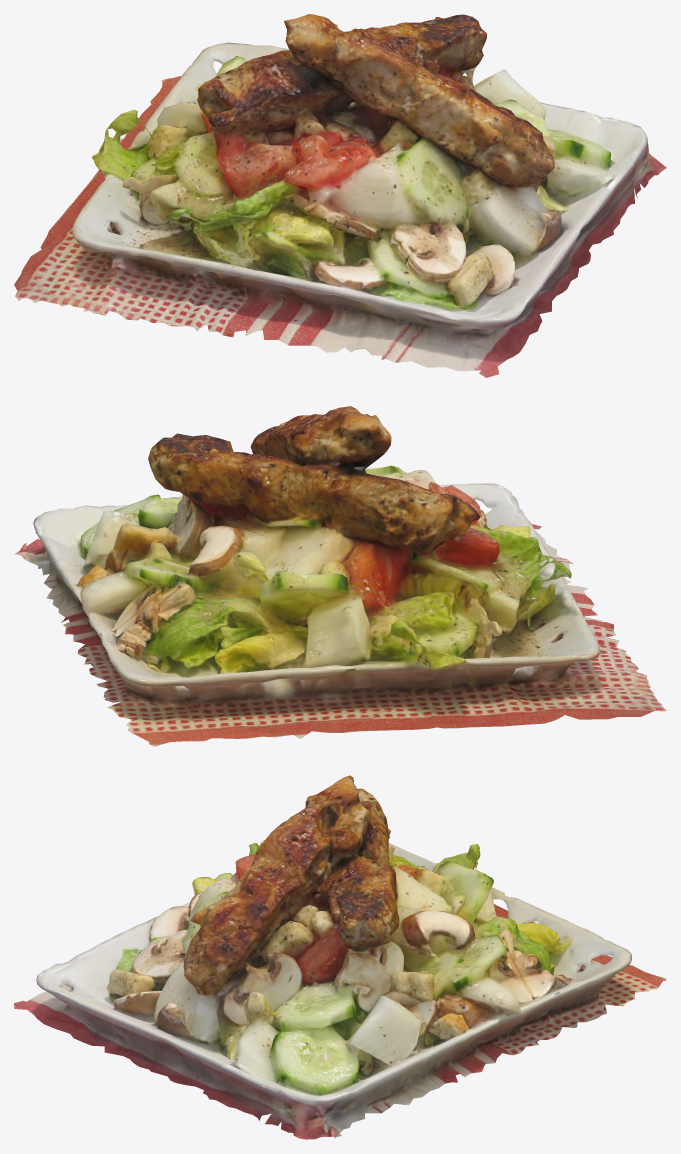
Rendered from gastronomia3D.glb.
The picture shows the model from 3 angles, top to bottom: view 1: azimuth 30°, elevation 25°; view 2: azimuth 150°, elevation 25°; view 3: azimuth 270°, elevation 25°; orthographic projection. The views are drawn at different scales.
Visible parts, largest first — view 1: Stereo textured mesh; view 2: Stereo textured mesh; view 3: Stereo textured mesh.
Boxes of the visible parts, <box> form: Stereo textured mesh: <box>14,14,666,377</box>; Stereo textured mesh: <box>14,406,666,746</box>; Stereo textured mesh: <box>14,775,666,1139</box>.
Bounding box in the file's own units: 0.5857 × 0.208 × 0.5634.
1 material, 1 textured.
